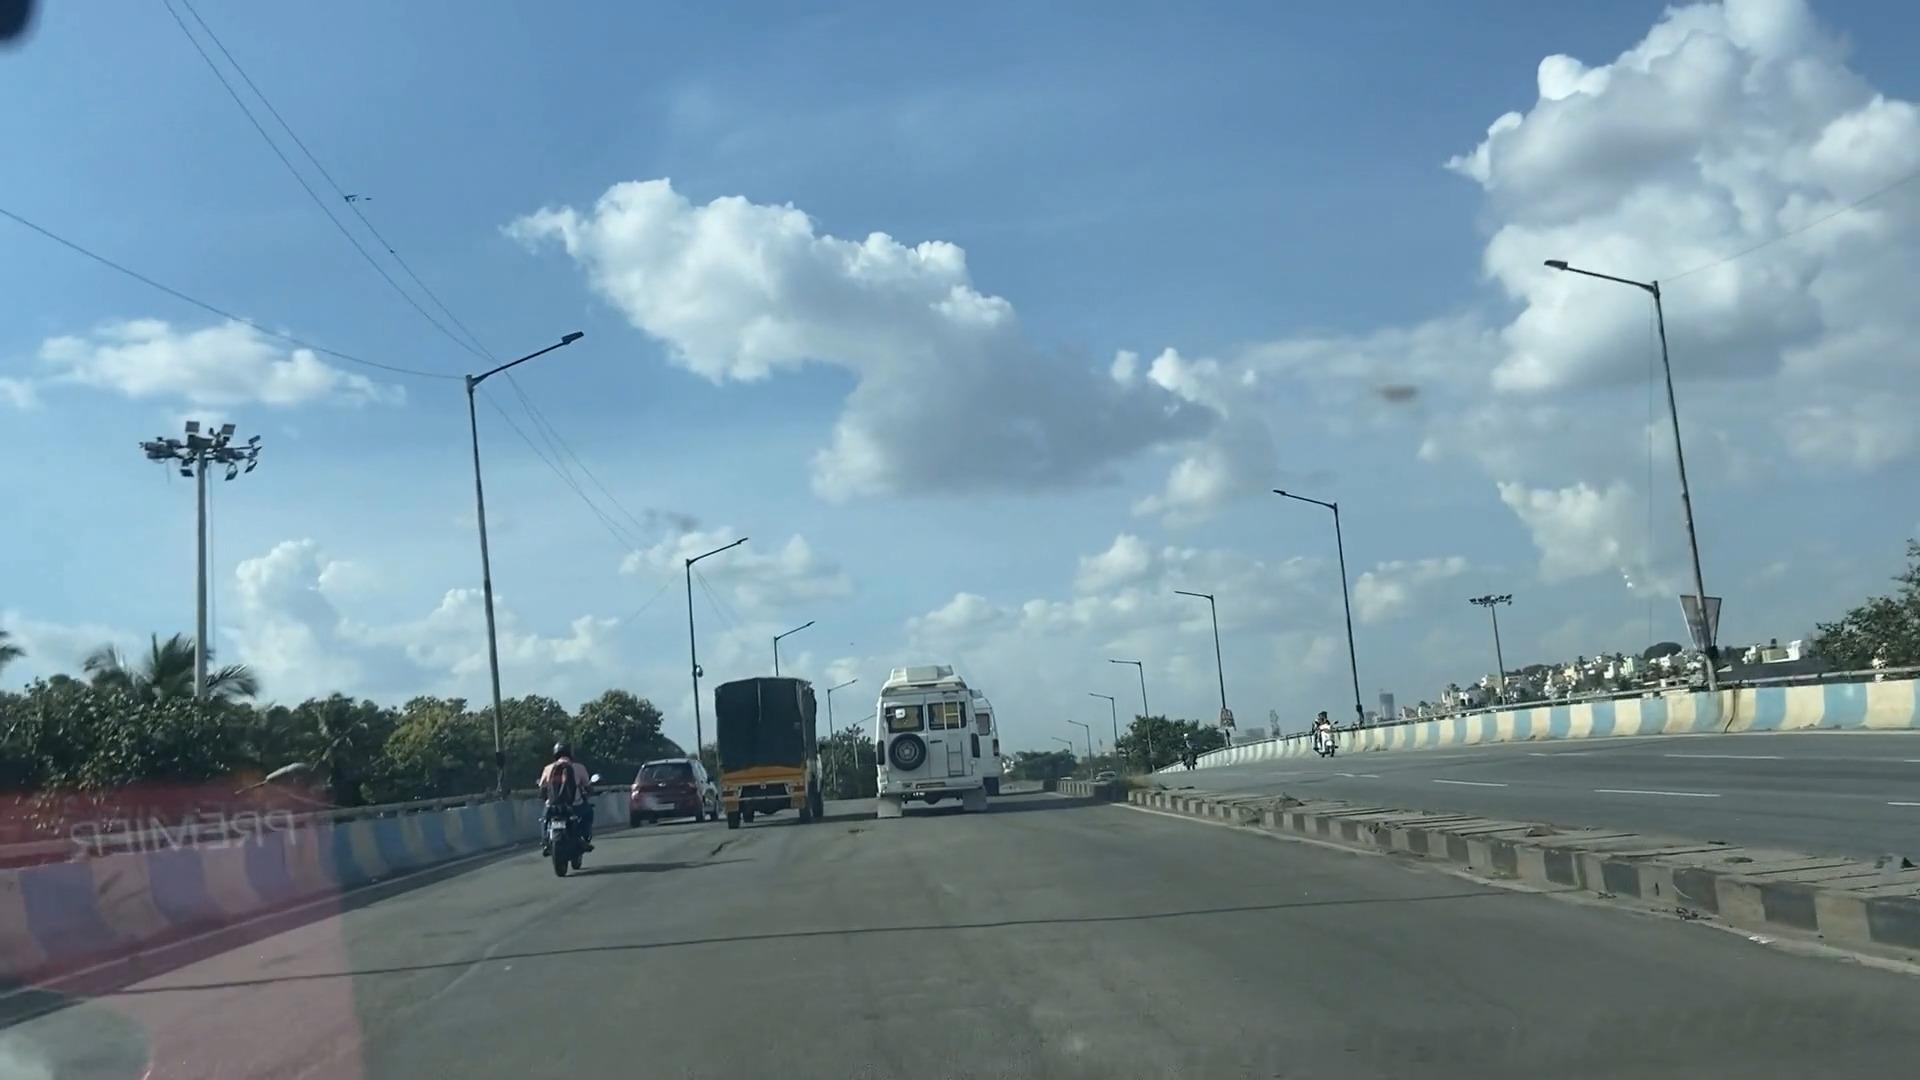HMV: (858, 653, 982, 840), (699, 661, 840, 807)
LMV: (517, 732, 592, 864), (612, 750, 712, 825)
